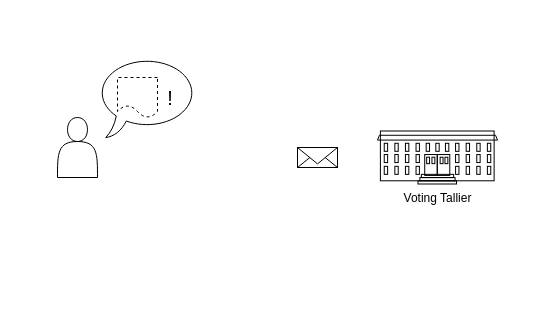
The diagram is 554 pixels wide and 314 high, and some of its shapes have lost their labels. Each missing label, with the centre of its shape:
"Vote" goes at point 137,97.
"Voter" goes at point 77,147.
